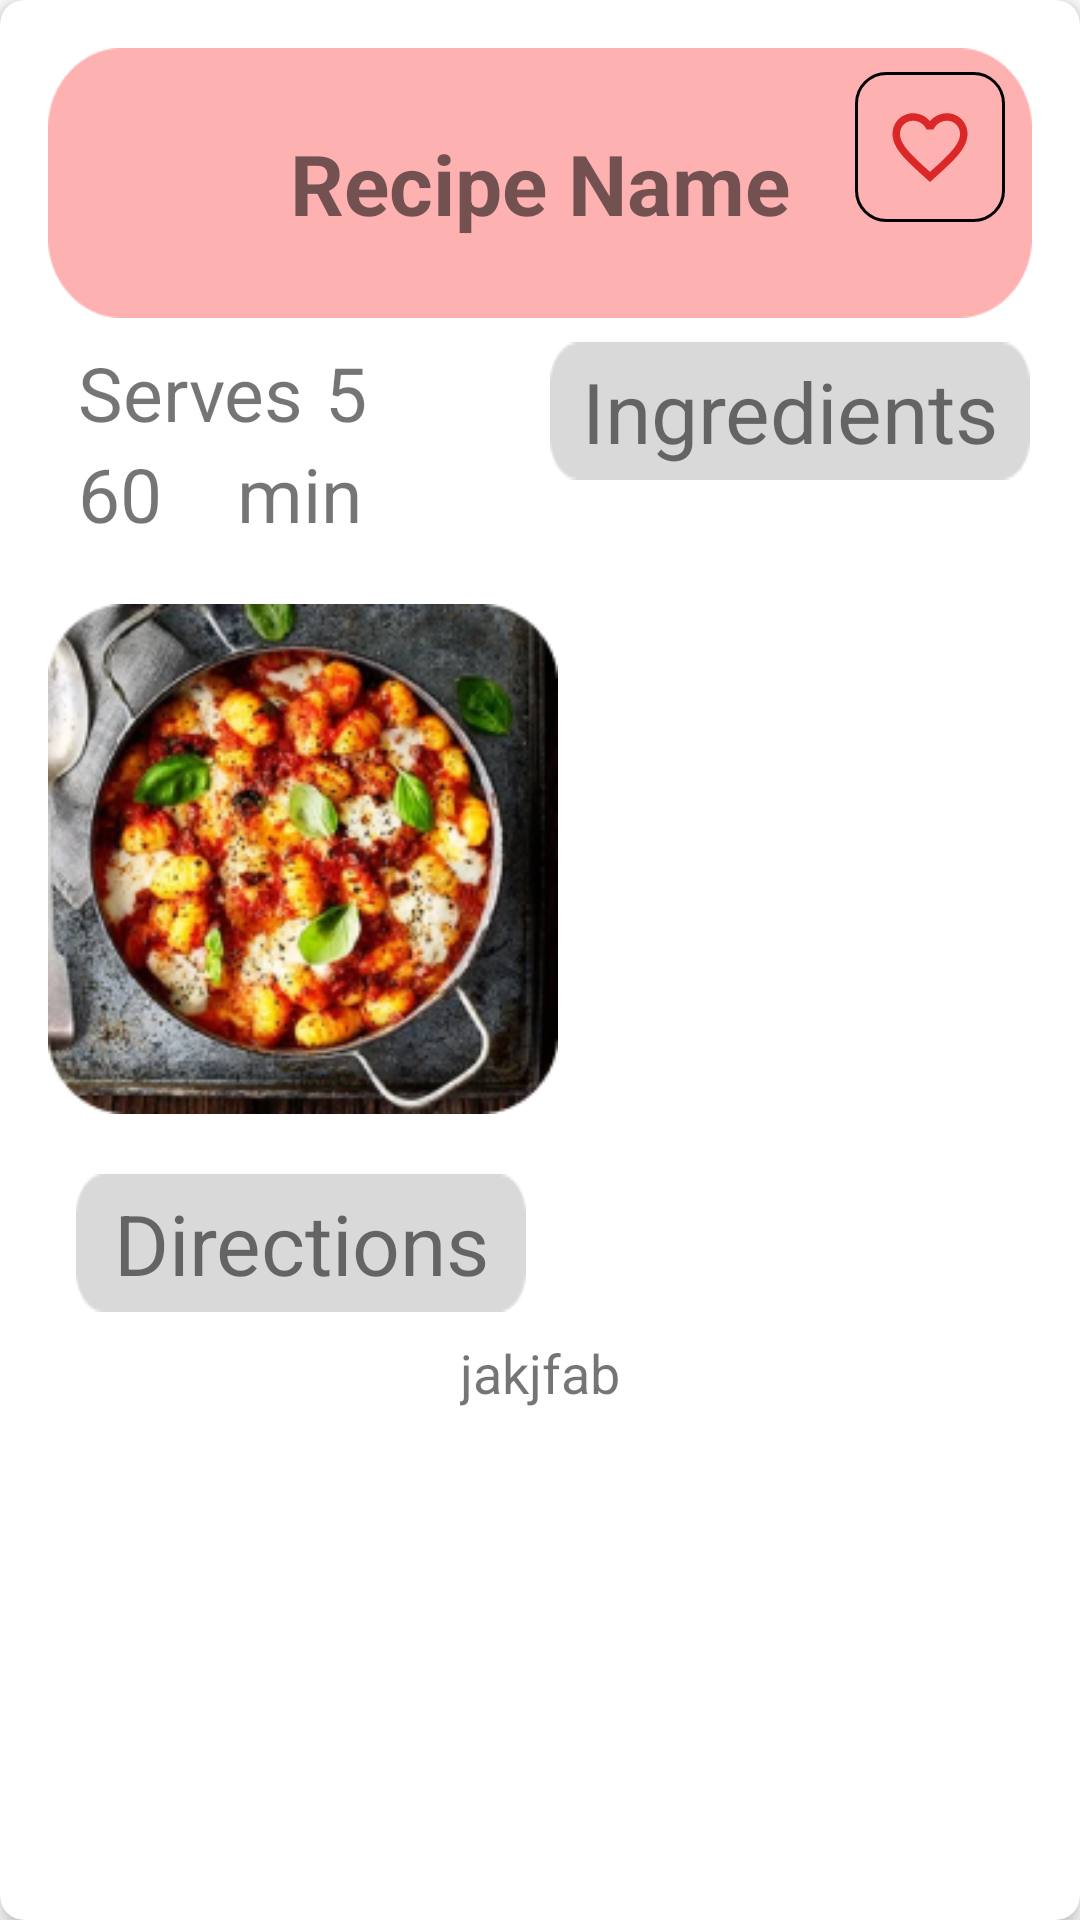

Locate icon controls on the screen. Image size 1080w x 1920h, boxes as (x1, y1, x2, y2).
favorites: (855, 72, 1005, 222)
